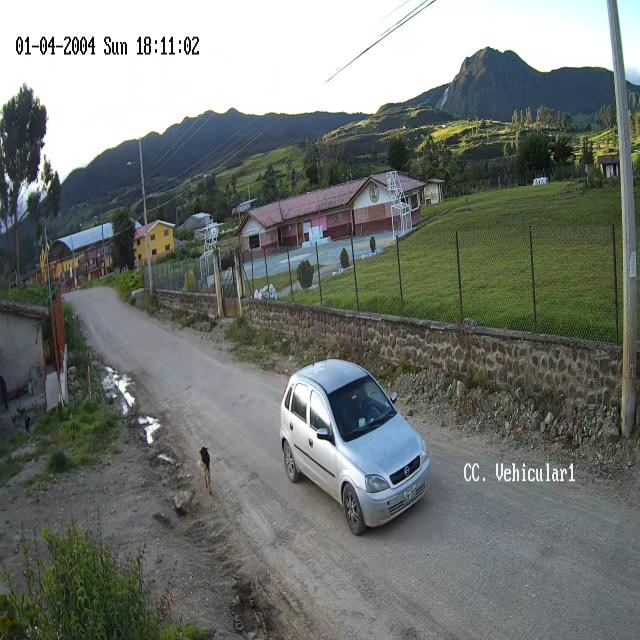SED: (280, 359, 432, 536)
